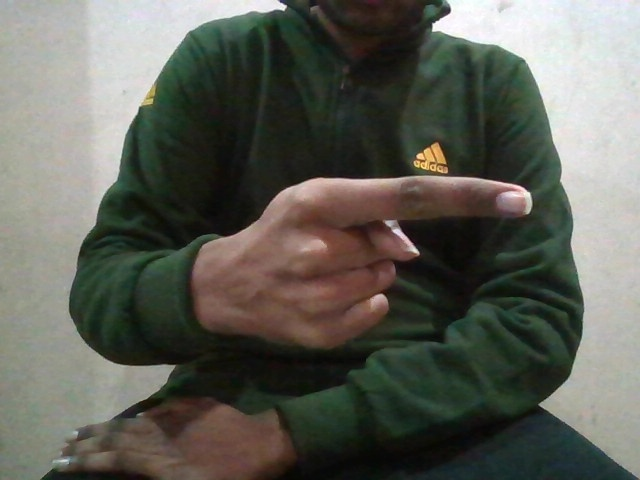G: (213, 173, 534, 343)
